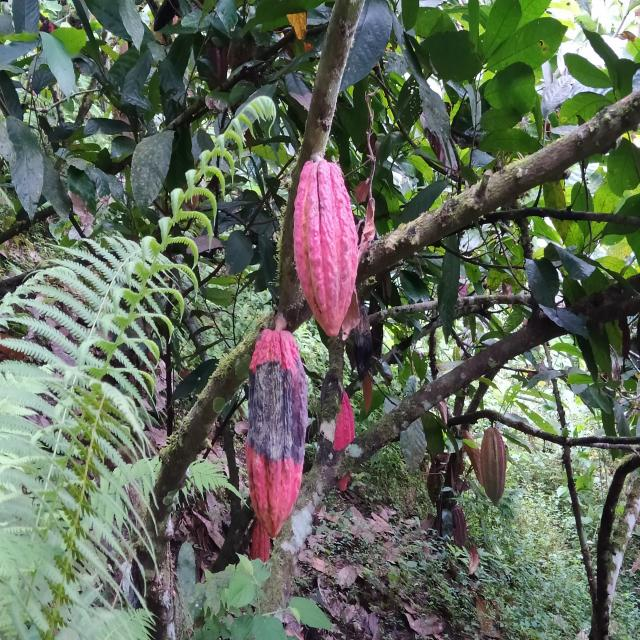Fitoftora: (246, 327, 308, 538), (355, 302, 371, 384)
Sana: (294, 160, 361, 339), (332, 386, 355, 492), (481, 429, 507, 507), (251, 520, 271, 563)
